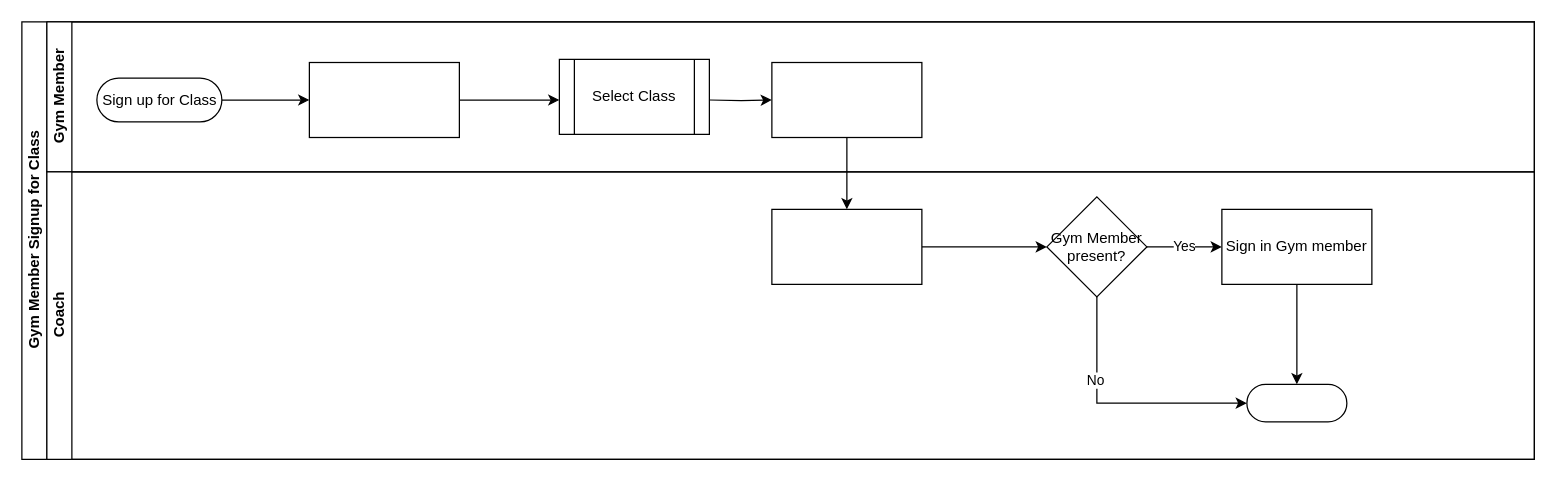
This 1556x481 diagram has some shape labels left out. Here are the shapes that lost their labels. From the top down, the box of each, then its label:
(308, 61, 459, 138): Login to Wodify
(771, 61, 922, 138): Sign up
(771, 208, 922, 284): Select Class Coaching
(1246, 383, 1347, 422): Class Begins
